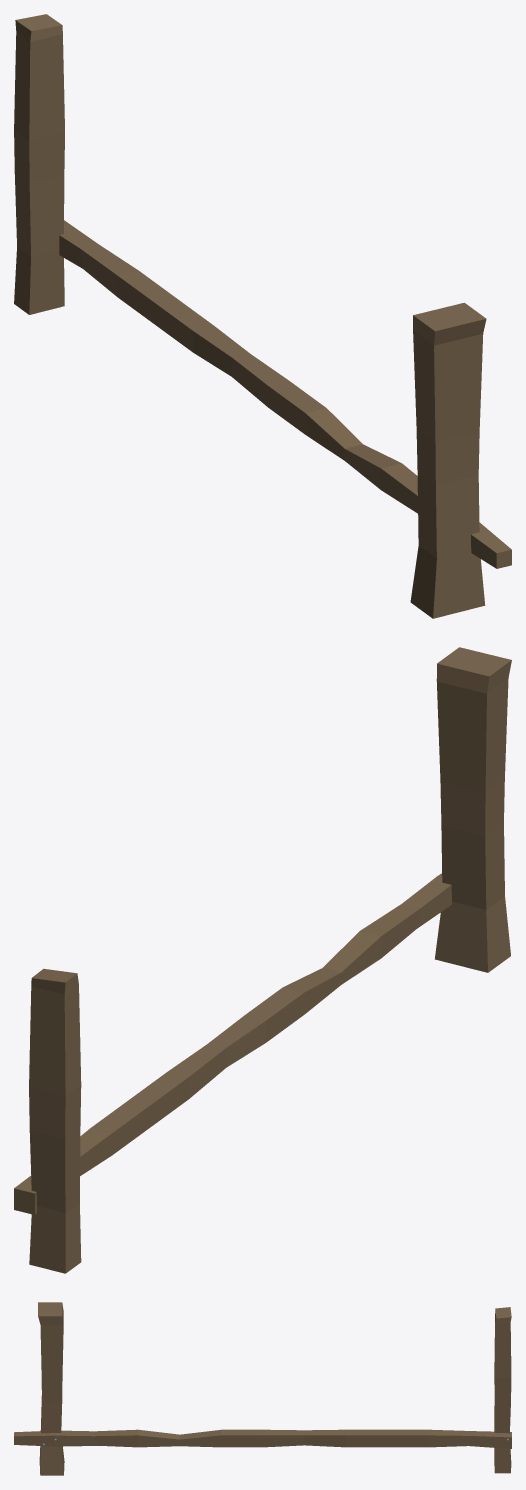
File: Fance_2.fbx
3 renders of one model, top to bottom at view 1: azimuth 30°, elevation 25°; view 2: azimuth 150°, elevation 25°; view 3: azimuth 270°, elevation 25°, orthographic. The views are drawn at different scales.
Parts seen in each view (by area): view 1: fance_2; view 2: fance_2; view 3: fance_2.
Part boxes in pixels (x1,y1,x2,y2): fance_2: (14, 14, 511, 618); fance_2: (14, 647, 511, 1273); fance_2: (14, 1302, 511, 1475).
Size of the model in its own units: 17.51 by 79.58 by 226.
